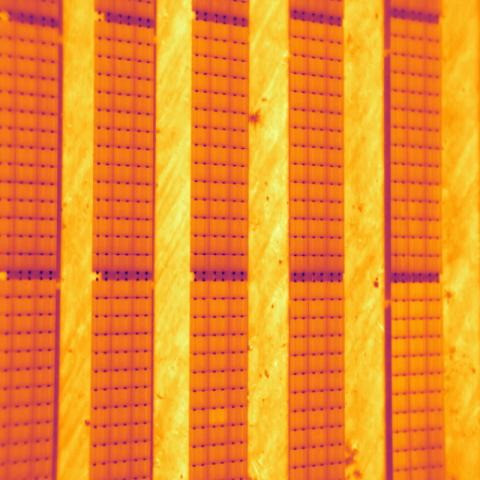fault: (208, 408, 228, 427)
